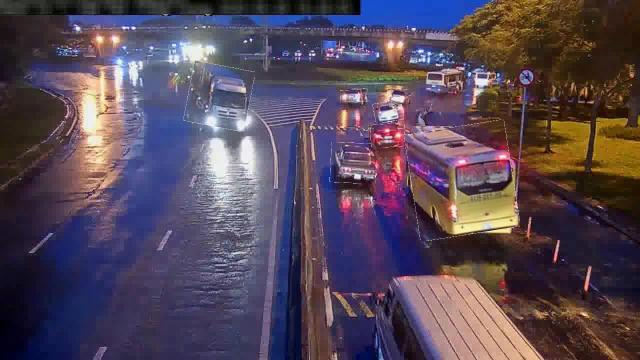Bus: (408, 122, 516, 238)
Car: (330, 142, 376, 184), (370, 124, 406, 148), (373, 100, 403, 124), (340, 90, 368, 102), (388, 88, 408, 104)
Truck: (186, 63, 252, 129)
